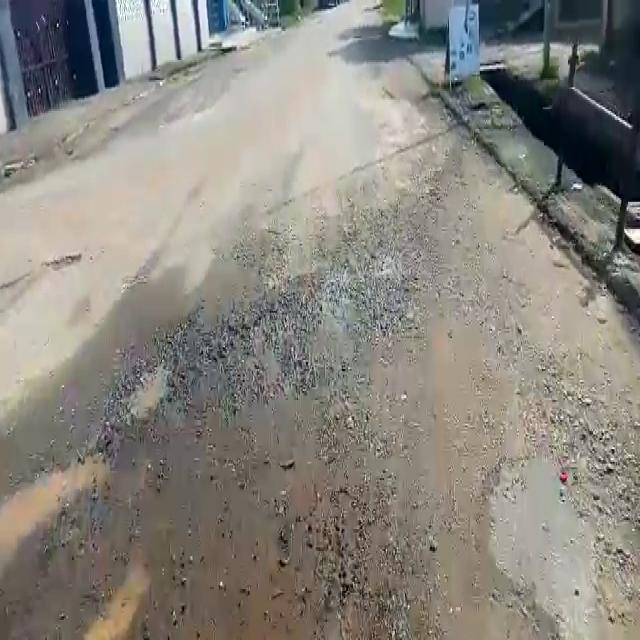Pothole: (124, 356, 170, 421)
